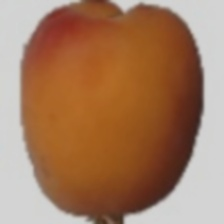apricot: (47, 0, 183, 199)
